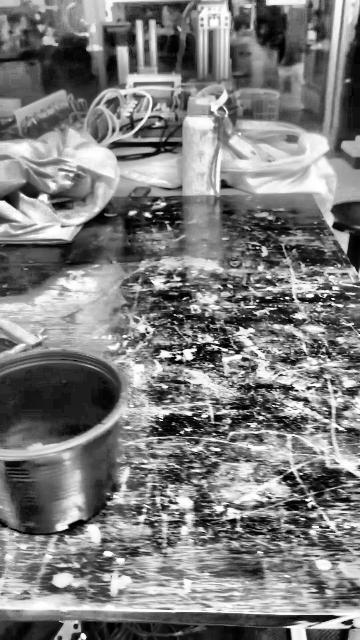pot: (0, 350, 125, 535)
